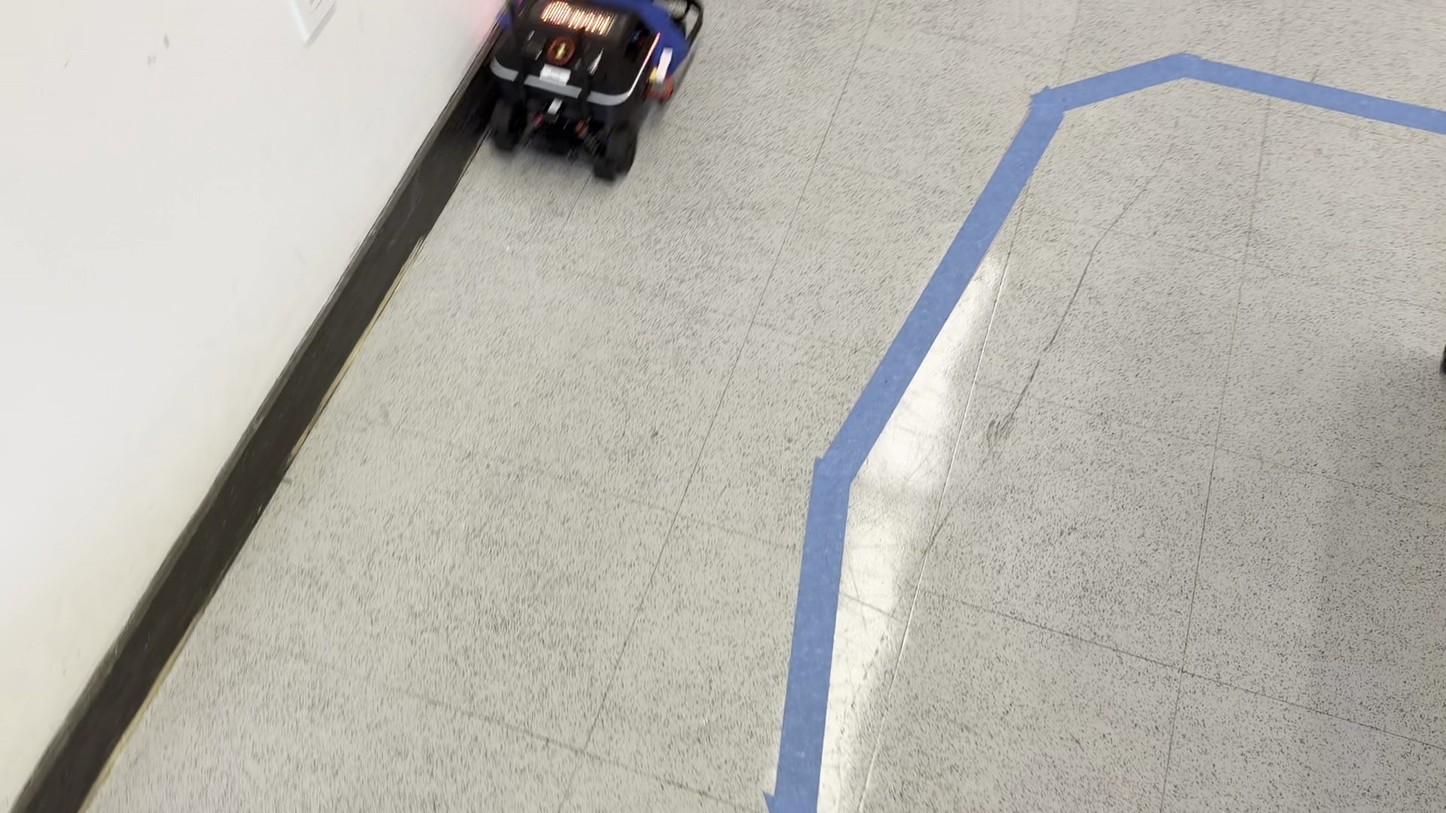racecar: (478, 0, 700, 183)
